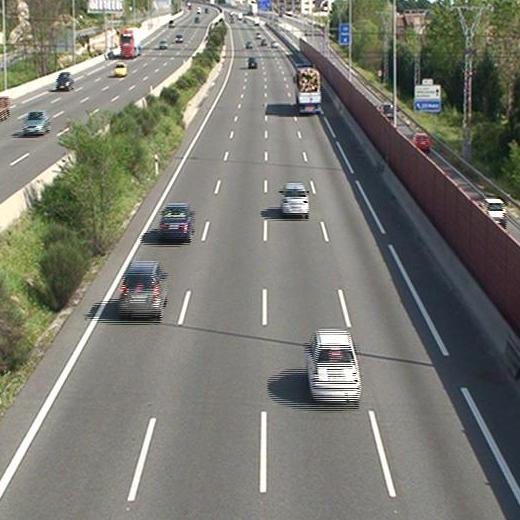car: (306, 330, 361, 401), (119, 263, 169, 318), (159, 203, 193, 240), (280, 182, 309, 216), (246, 56, 256, 68)
truck: (295, 66, 321, 113)
